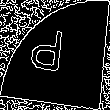P_S: (36, 27, 74, 83)
